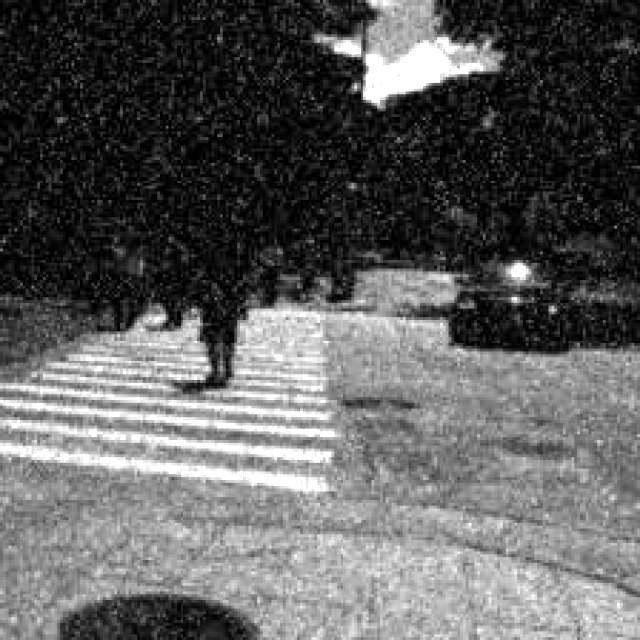crosswalk: (3, 314, 355, 639)
